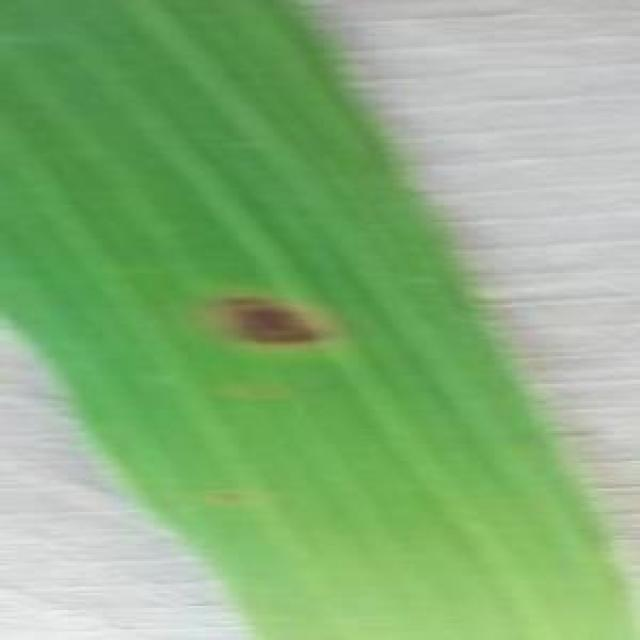Brown_Spot: (207, 295, 329, 355)
